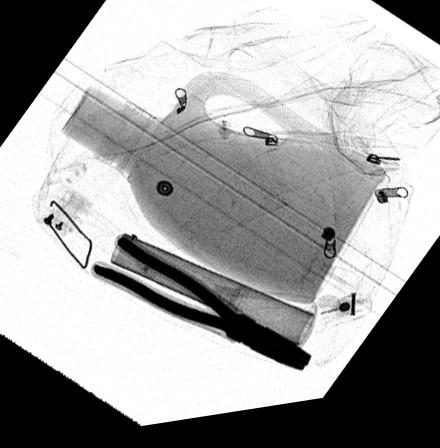Pliers: (92, 238, 314, 381)
